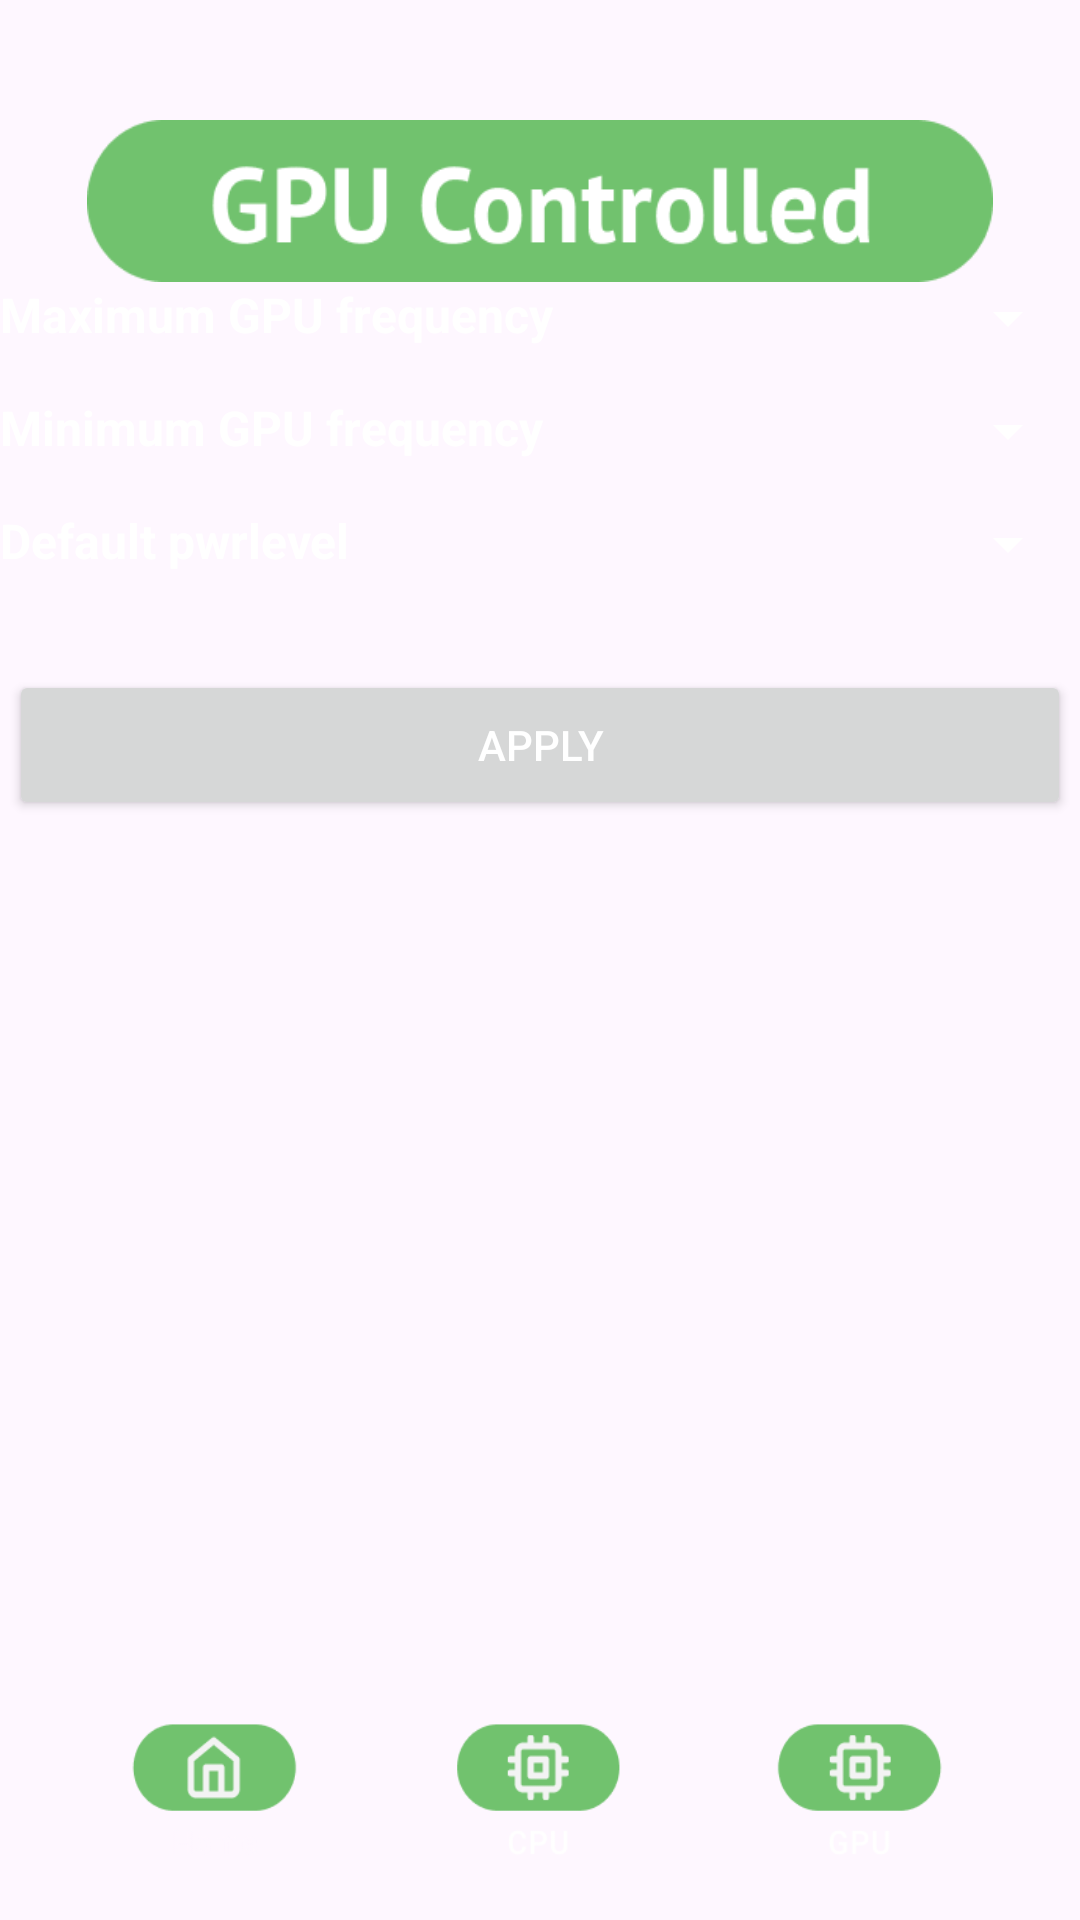

Point at icon controls on the screen. Image size 1080px×1920px, points as (x=x, y=y).
home bt: (x=214, y=1767)
